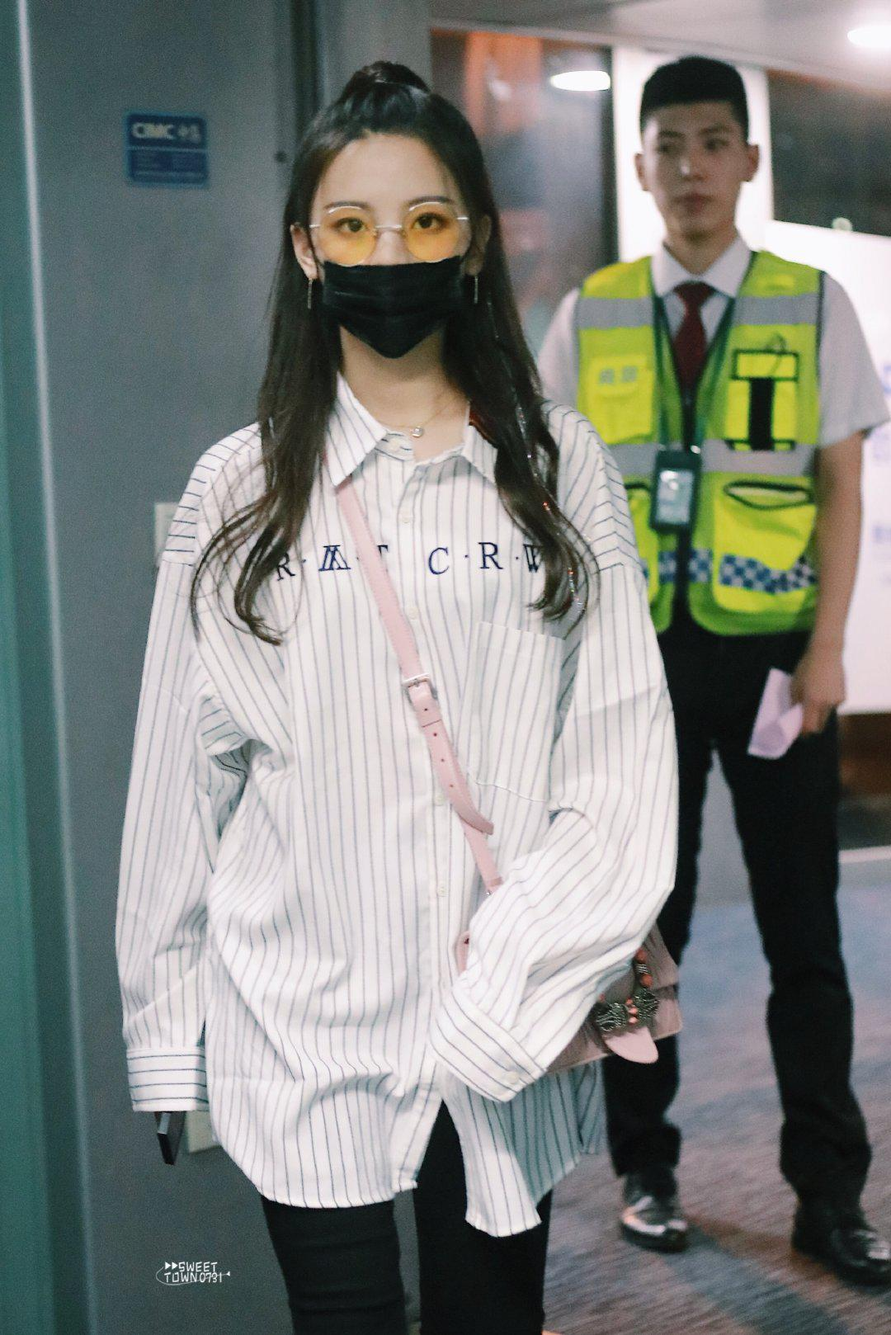NONE: (646, 118, 740, 238)
WRONG: (315, 169, 469, 355)
